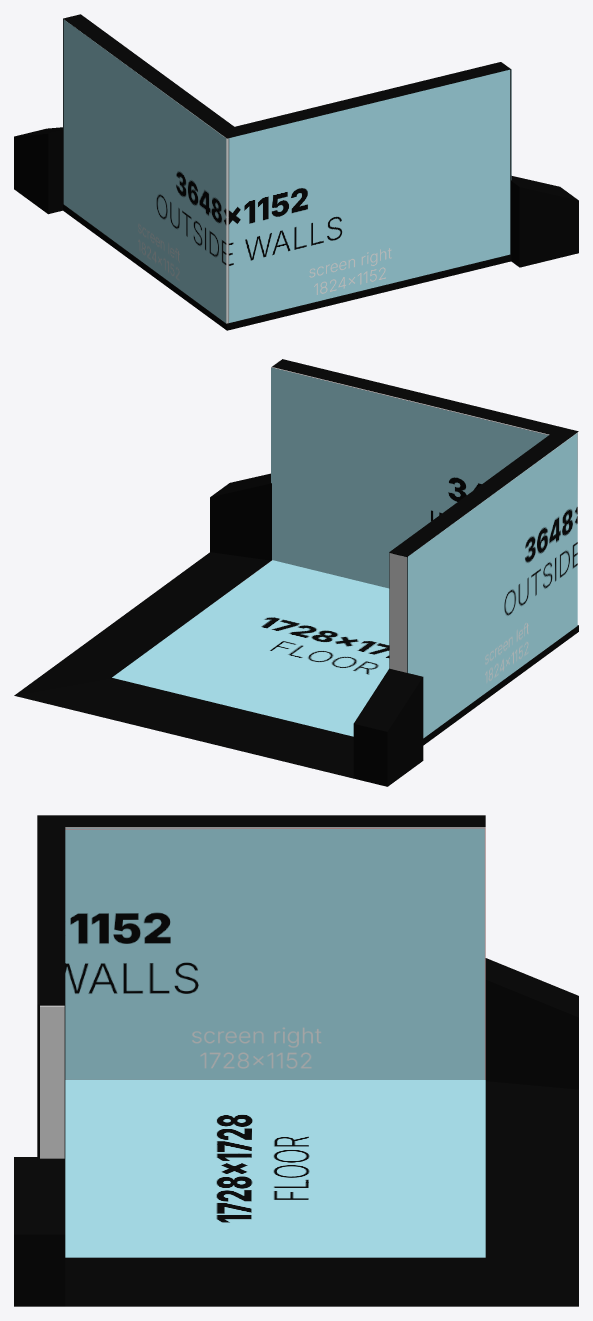
The model's file is fullportal_specs.fbx.
3 renders of one model, top to bottom at view 1: azimuth 30°, elevation 25°; view 2: azimuth 150°, elevation 25°; view 3: azimuth 270°, elevation 25°, orthographic. The views are drawn at different scales.
Visible parts, largest first — view 1: Cube, Cube.001, PORTAL_STRUCTURE; view 2: PORTAL_STRUCTURE, Cube, Cube.001, Plane; view 3: Cube.001, Plane, PORTAL_STRUCTURE, Cube.
Part boxes in pixels (x1=…): Cube: x1=228, y1=62, x2=511, y2=322; Cube.001: x1=63, y1=19, x2=228, y2=323; PORTAL_STRUCTURE: x1=14, y1=14, x2=578, y2=330; PORTAL_STRUCTURE: x1=14, y1=359, x2=578, y2=786; Cube: x1=271, y1=360, x2=549, y2=588; Cube.001: x1=389, y1=432, x2=577, y2=738; Plane: x1=112, y1=560, x2=389, y2=736; Cube.001: x1=65, y1=827, x2=485, y2=1079; Plane: x1=65, y1=1080, x2=485, y2=1257; PORTAL_STRUCTURE: x1=14, y1=815, x2=578, y2=1306; Cube: x1=40, y1=1005, x2=64, y2=1158.
Bounding box in the file's own units: 605 × 310 × 605.
8 materials, 5 textured.
